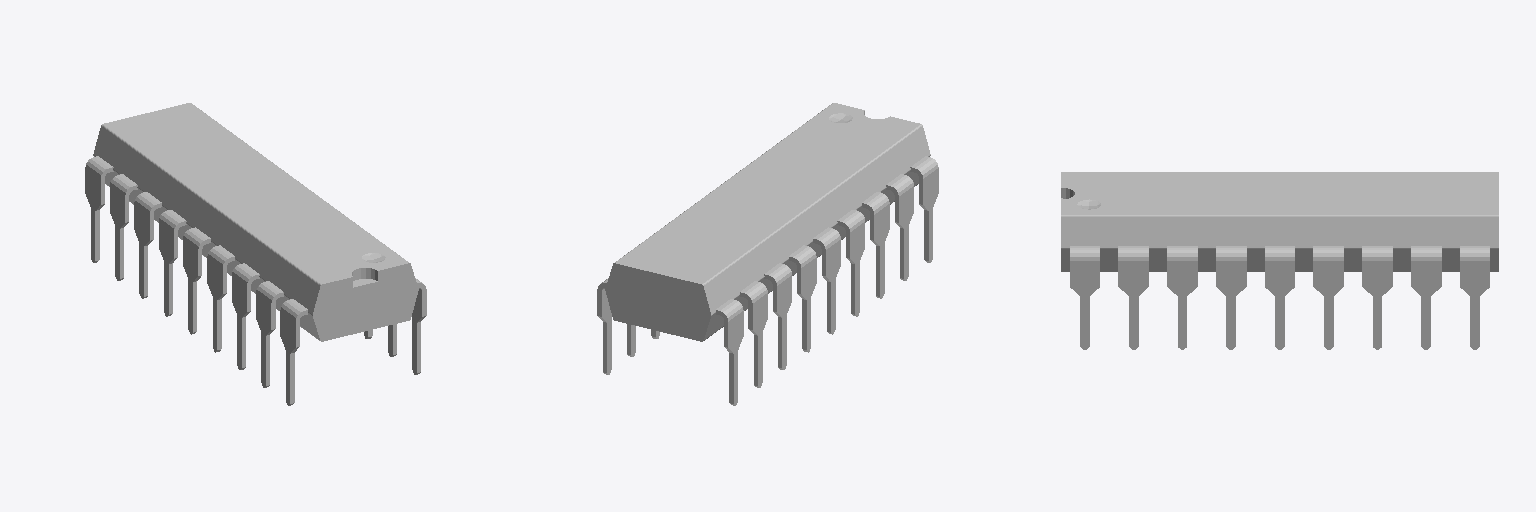
3 views of the same model, side by side, from view 1: azimuth 30°, elevation 25°; view 2: azimuth 150°, elevation 25°; view 3: azimuth 270°, elevation 25° (orthographic).
Visible parts, largest first — view 1: Volumenkörper1; view 2: Volumenkörper1; view 3: Volumenkörper1.
Boxes of the visible parts, box(x1,y1,x2,y2) form: Volumenkörper1: box(85, 103, 426, 405); Volumenkörper1: box(597, 103, 938, 405); Volumenkörper1: box(1061, 172, 1498, 349).
Size of the model in its own units: 7.87 by 7.17 by 22.86.